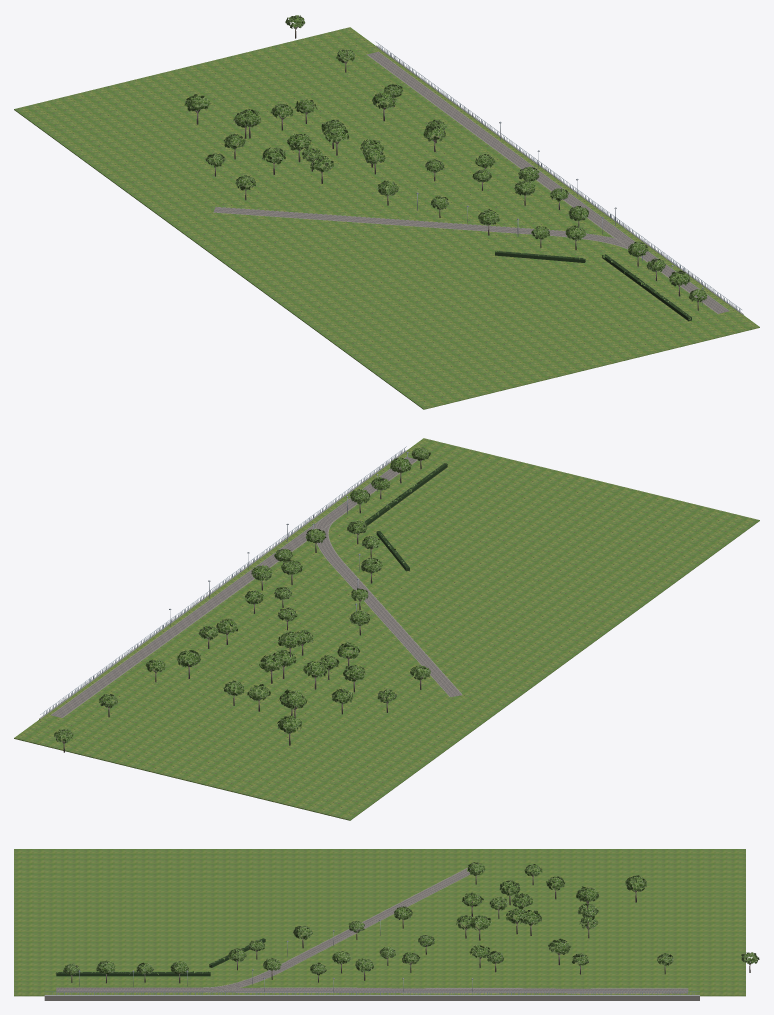
Rendered from riverside.glb.
The picture shows the model from 3 angles, top to bottom: view 1: azimuth 30°, elevation 25°; view 2: azimuth 150°, elevation 25°; view 3: azimuth 270°, elevation 25°; orthographic projection. The views are drawn at different scales.
Visible parts, largest first — view 1: riverside; view 2: riverside; view 3: riverside.
Boxes of the visible parts, <box> form: riverside: <box>14,15,759,409</box>; riverside: <box>14,438,759,820</box>; riverside: <box>14,849,759,1000</box>.
Size of the model in its own units: 90.25 by 8.72 by 194.
10 materials, 4 textured.
